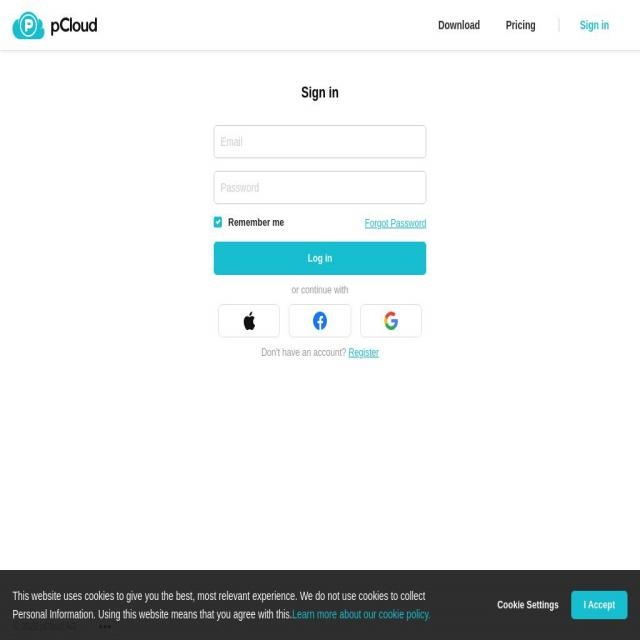login-form: (202, 75, 440, 377)
login-option: (566, 7, 626, 48)
navigation-links: (430, 8, 558, 50)
